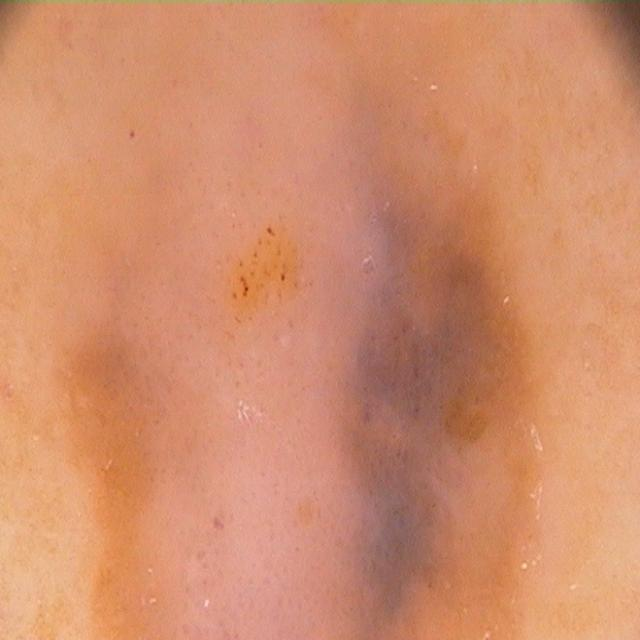Melanoma: (63, 148, 544, 640)
